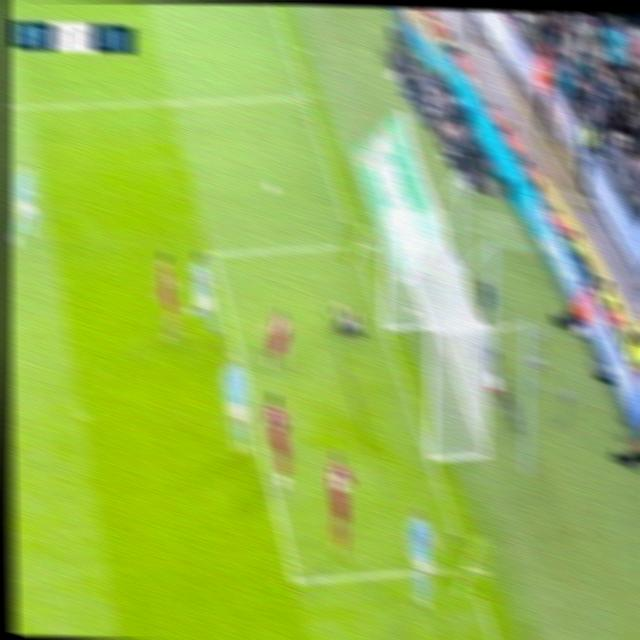bigarea_top_outter: (284, 67, 324, 123)
smallarea_bottom_inner: (272, 546, 318, 614)
smallarea_bottom_outter: (446, 534, 490, 599)
smallarea_top_inner: (195, 230, 226, 280)
smallarea_top_outter: (337, 222, 377, 267)
